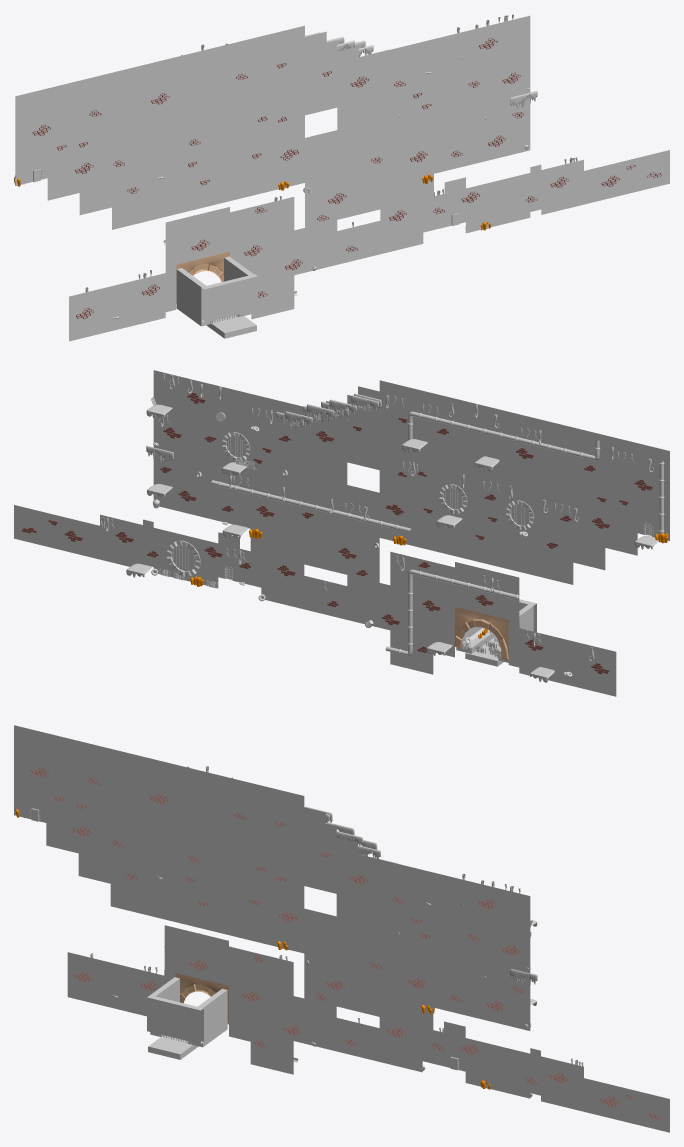
File: tutorial fondo part-3 .fbx
The picture shows the model from 3 angles, top to bottom: view 1: azimuth 30°, elevation 25°; view 2: azimuth 150°, elevation 25°; view 3: azimuth 330°, elevation 25°; orthographic projection.
Parts seen in each view (by area): view 1: pared alcantarilla fondo.003, pared alcantarilla corto.003, pared 4x6.130, pared 4x6.132, pared 4x6.144, pared 4x6.160, pared 4x6.034, pared 4x6.041, pared 4x6.061, pared 4x6.090, pared 4x6.108, pared 4x6.115 (+132 smaller); view 2: marco 1 .003, Cube.152, pared 4x6.135, pared 4x6.037, pared 4x6.061, pared 4x6.071, pared 4x6.099, pared 4x6.108, pared 4x6.119, pared 4x6.123, pared 4x6.131, pared 4x6.146 (+121 smaller); view 3: pared alcantarilla fondo.003, pared alcantarilla grande.003, marco 1 .003, pared 4x6.166, pared 4x6.034, pared 4x6.050, pared 4x6.078, pared 4x6.081, pared 4x6.082, pared 4x6.105, pared 4x6.106, pared 4x6.107 (+120 smaller).
Boxes of the visible parts, bbox=[...] form: pared alcantarilla fondo.003: bbox=[201, 274, 257, 322]; pared alcantarilla corto.003: bbox=[176, 268, 211, 326]; pared 4x6.130: bbox=[144, 124, 176, 154]; pared 4x6.132: bbox=[112, 177, 144, 207]; pared 4x6.144: bbox=[176, 94, 208, 124]; pared 4x6.160: bbox=[240, 33, 272, 63]; pared 4x6.034: bbox=[391, 221, 423, 251]; pared 4x6.041: bbox=[262, 219, 294, 249]; pared 4x6.061: bbox=[101, 281, 133, 310]; pared 4x6.090: bbox=[369, 159, 401, 189]; pared 4x6.108: bbox=[305, 85, 337, 115]; pared 4x6.115: bbox=[240, 168, 272, 198]; marco 1 .003: bbox=[454, 607, 508, 659]; Cube.152: bbox=[166, 540, 200, 576]; pared 4x6.135: bbox=[573, 540, 605, 570]; pared 4x6.037: bbox=[347, 575, 379, 605]; pared 4x6.061: bbox=[551, 636, 583, 666]; pared 4x6.071: bbox=[186, 445, 218, 475]; pared 4x6.099: bbox=[315, 454, 347, 484]; pared 4x6.108: bbox=[347, 440, 379, 470]; pared 4x6.119: bbox=[444, 531, 476, 561]; pared 4x6.123: bbox=[476, 539, 508, 569]; pared 4x6.131: bbox=[541, 554, 573, 584]; pared 4x6.146: bbox=[541, 464, 573, 494]; pared alcantarilla fondo.003: bbox=[147, 995, 203, 1044]; pared alcantarilla grande.003: bbox=[187, 988, 227, 1047]; marco 1 .003: bbox=[175, 973, 228, 1024]; pared 4x6.166: bbox=[46, 733, 78, 763]; pared 4x6.034: bbox=[390, 1042, 422, 1072]; pared 4x6.050: bbox=[164, 925, 196, 955]; pared 4x6.078: bbox=[433, 962, 465, 992]; pared 4x6.081: bbox=[433, 940, 465, 970]; pared 4x6.082: bbox=[433, 917, 465, 947]; pared 4x6.105: bbox=[304, 931, 336, 961]; pared 4x6.106: bbox=[304, 908, 336, 938]; pared 4x6.107: bbox=[304, 818, 336, 848].
Bounding box in the file's own units: 12200 × 5052 × 1527.
